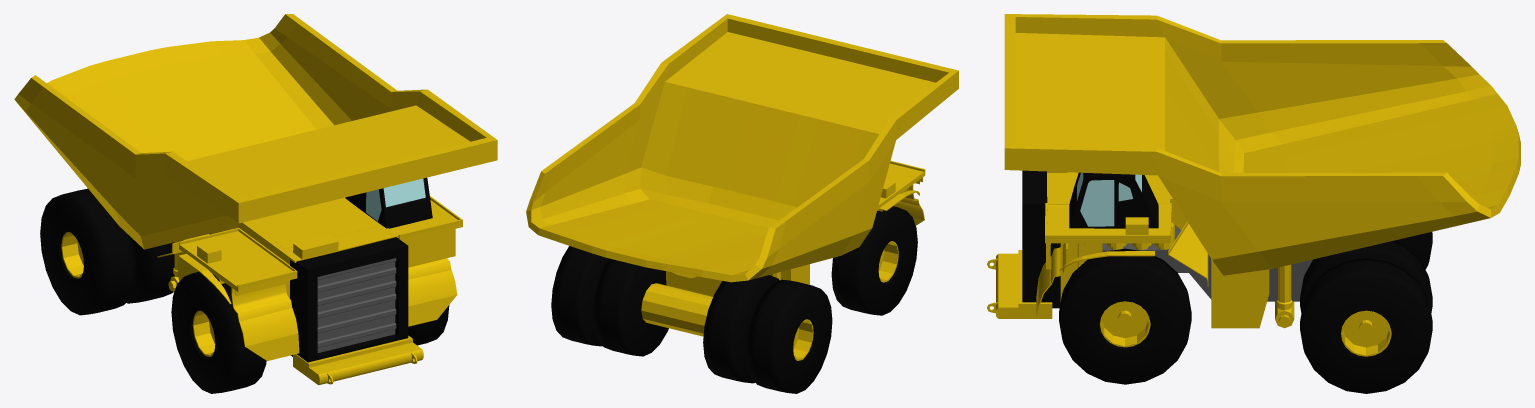
File: camion_Komatsu.fbx
The picture shows the model from 3 angles, left to right: view 1: azimuth 30°, elevation 25°; view 2: azimuth 150°, elevation 25°; view 3: azimuth 270°, elevation 25°; orthographic projection. The views are drawn at different scales.
Parts seen in each view (by area): view 1: polySurface1411, pCube16, pCube27, pCylinder9, pCylinder4, pCylinder12, polySurface1419, vidrios, pCylinder1, pCylinder8, pCylinder7; view 2: polySurface1411, pCylinder9, pCylinder4, pCylinder11, pCylinder12, pCylinder10, pCylinder8, pCube16, pCube27, pCylinder7; view 3: polySurface1411, pCylinder10, pCylinder1, pCube27, pCube16, polySurface1419, pCylinder11, pCylinder7, pCylinder8, vidrios, pCylinder12.
Part boxes in pixels (bbox=[...]): polySurface1411: bbox=[14, 14, 497, 249]; pCube16: bbox=[178, 196, 462, 385]; pCube27: bbox=[157, 218, 408, 362]; pCylinder9: bbox=[40, 188, 136, 315]; pCylinder4: bbox=[171, 271, 266, 393]; pCylinder12: bbox=[126, 238, 174, 303]; polySurface1419: bbox=[345, 177, 432, 228]; vidrios: bbox=[366, 178, 425, 221]; pCylinder1: bbox=[408, 305, 449, 345]; pCylinder8: bbox=[61, 232, 83, 278]; pCylinder7: bbox=[192, 310, 215, 356]; polySurface1411: bbox=[526, 14, 958, 282]; pCylinder9: bbox=[746, 279, 832, 393]; pCylinder4: bbox=[831, 206, 917, 315]; pCylinder11: bbox=[592, 258, 668, 356]; pCylinder12: bbox=[703, 275, 779, 383]; pCylinder10: bbox=[551, 246, 608, 346]; pCylinder8: bbox=[641, 283, 813, 360]; pCube16: bbox=[877, 161, 925, 225]; pCube27: bbox=[666, 264, 809, 296]; pCylinder7: bbox=[878, 241, 898, 282]; polySurface1411: bbox=[1004, 14, 1520, 275]; pCylinder10: bbox=[1300, 258, 1432, 393]; pCylinder1: bbox=[1059, 248, 1191, 384]; pCube27: bbox=[1022, 170, 1312, 328]; pCube16: bbox=[987, 171, 1187, 318]; polySurface1419: bbox=[1069, 172, 1158, 228]; pCylinder11: bbox=[1300, 240, 1432, 312]; pCylinder7: bbox=[1100, 301, 1150, 347]; pCylinder8: bbox=[1341, 310, 1391, 356]; vidrios: bbox=[1077, 172, 1141, 226]; pCylinder12: bbox=[1395, 232, 1432, 269].
Size of the model in its own units: 388 by 327 by 636.
